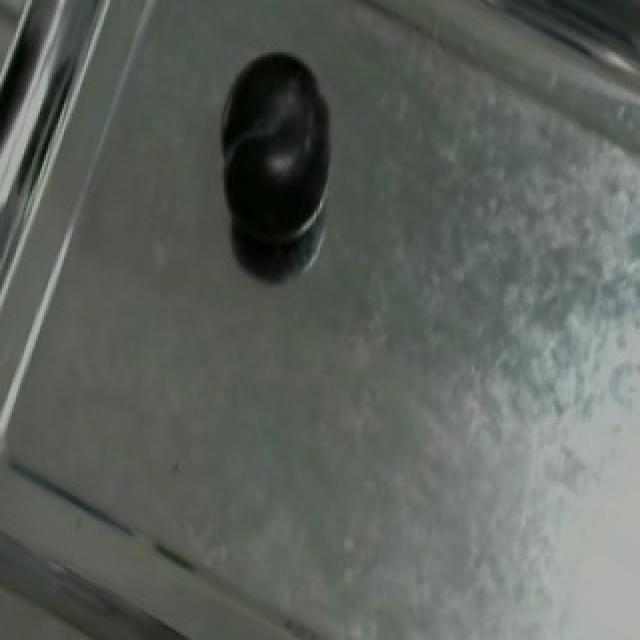Fruit: (204, 32, 348, 246)
